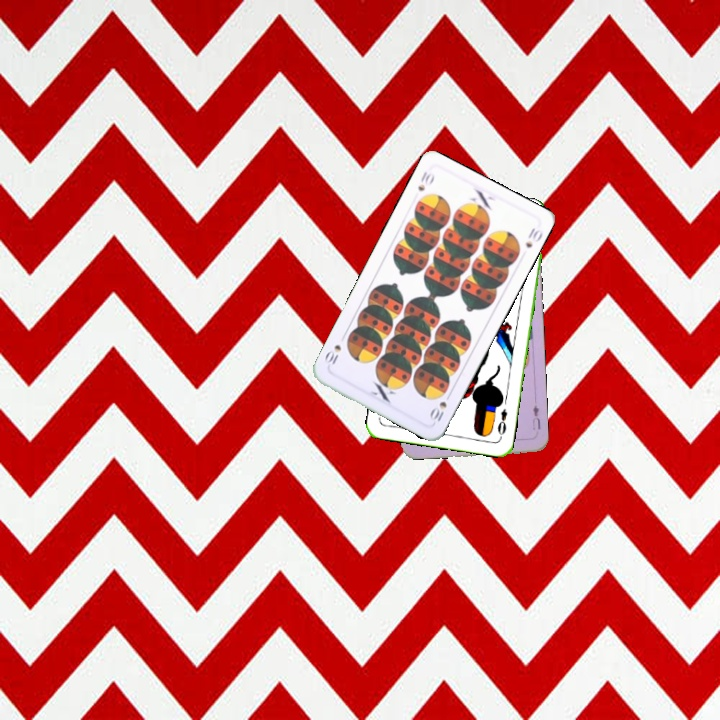EO: (493, 405, 510, 441)
EU: (528, 401, 543, 433)
S10: (426, 388, 454, 425), (414, 167, 437, 194)
